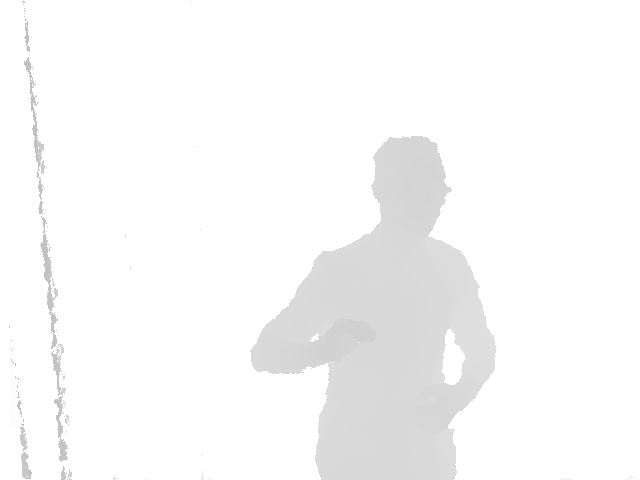head: (372, 136, 452, 236)
person: (247, 135, 499, 480)
